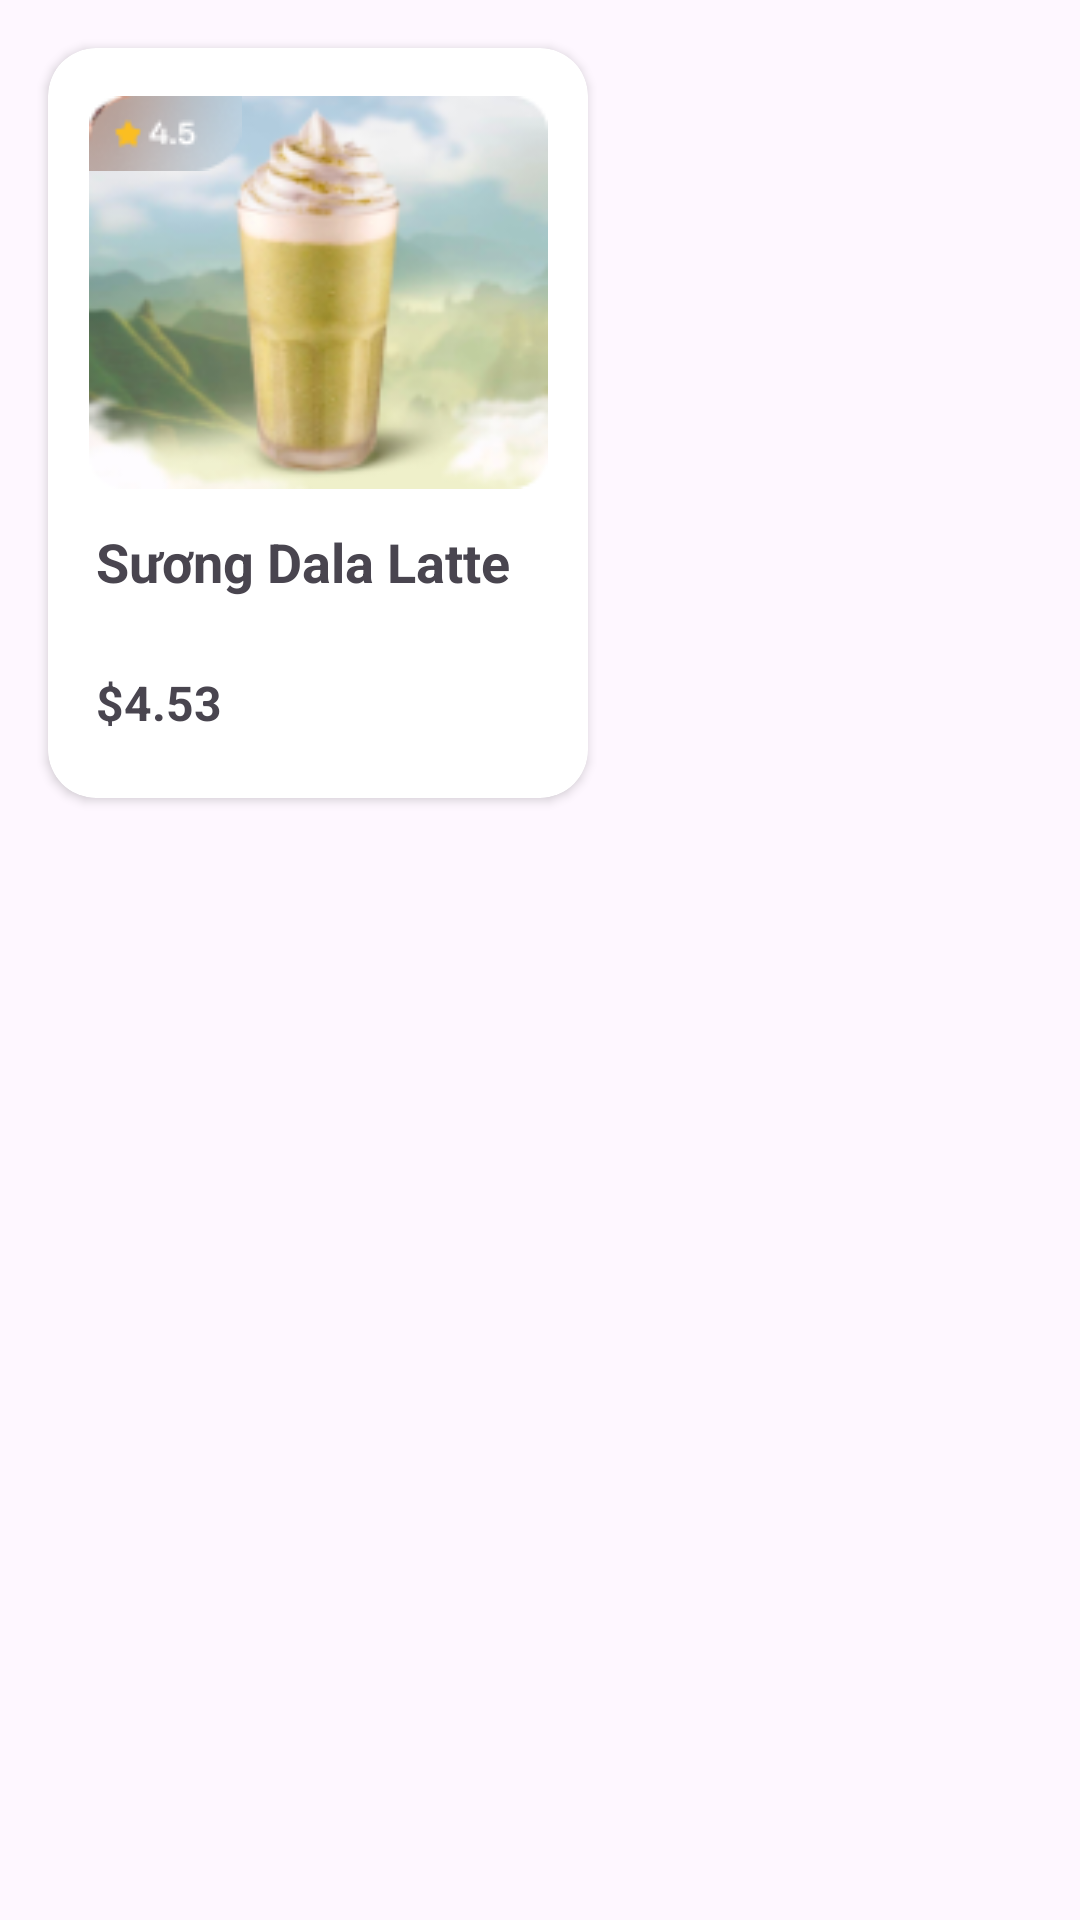

Icon click points for this 1080w x 1920h phone screenshot, format [x,y]:
rating top: [165,133]
